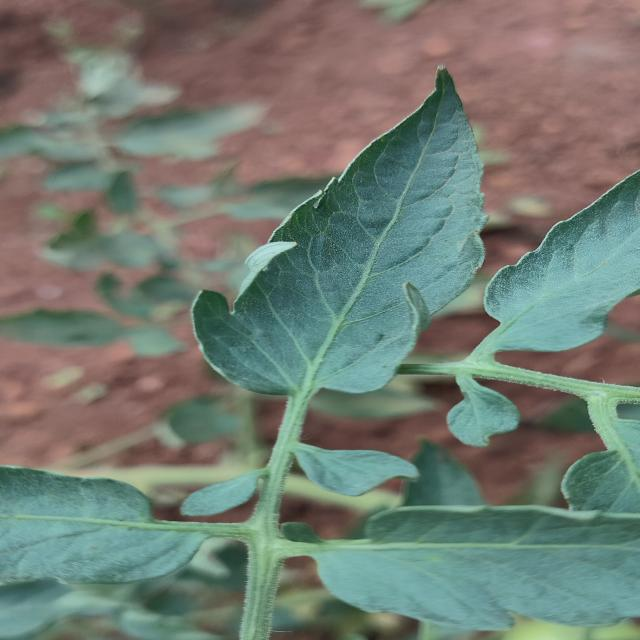tomato_healthy: (310, 170, 640, 628), (192, 69, 486, 403)
